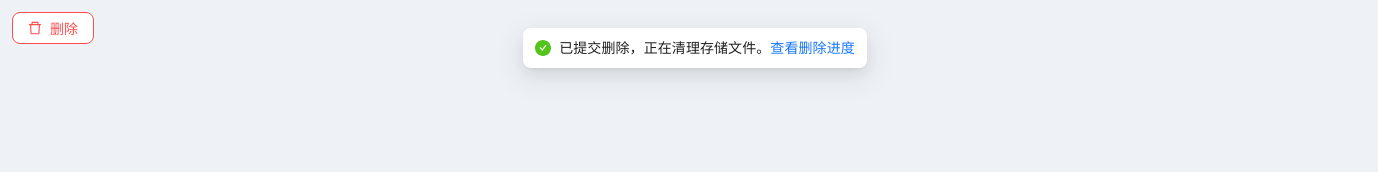
Test case: Direct dataset deletion › shows a server refusal without claiming success, and permits a direct retry
Later steps or results of the test are not shown.
Click the button with aria-label "删除数据集 test01".
click(53, 28)  # box [12,12,94,44]
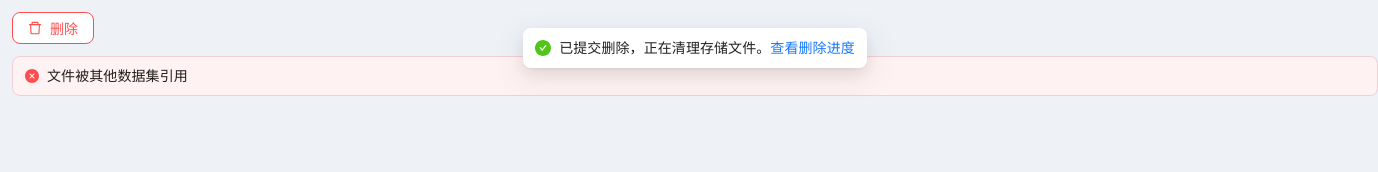
Check: the text "文件被其他数据集引用" is shown, box [47,67,188,84]
